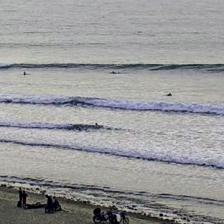surfer: (110, 71, 120, 74), (166, 92, 172, 96), (23, 72, 26, 75), (96, 122, 98, 126)
